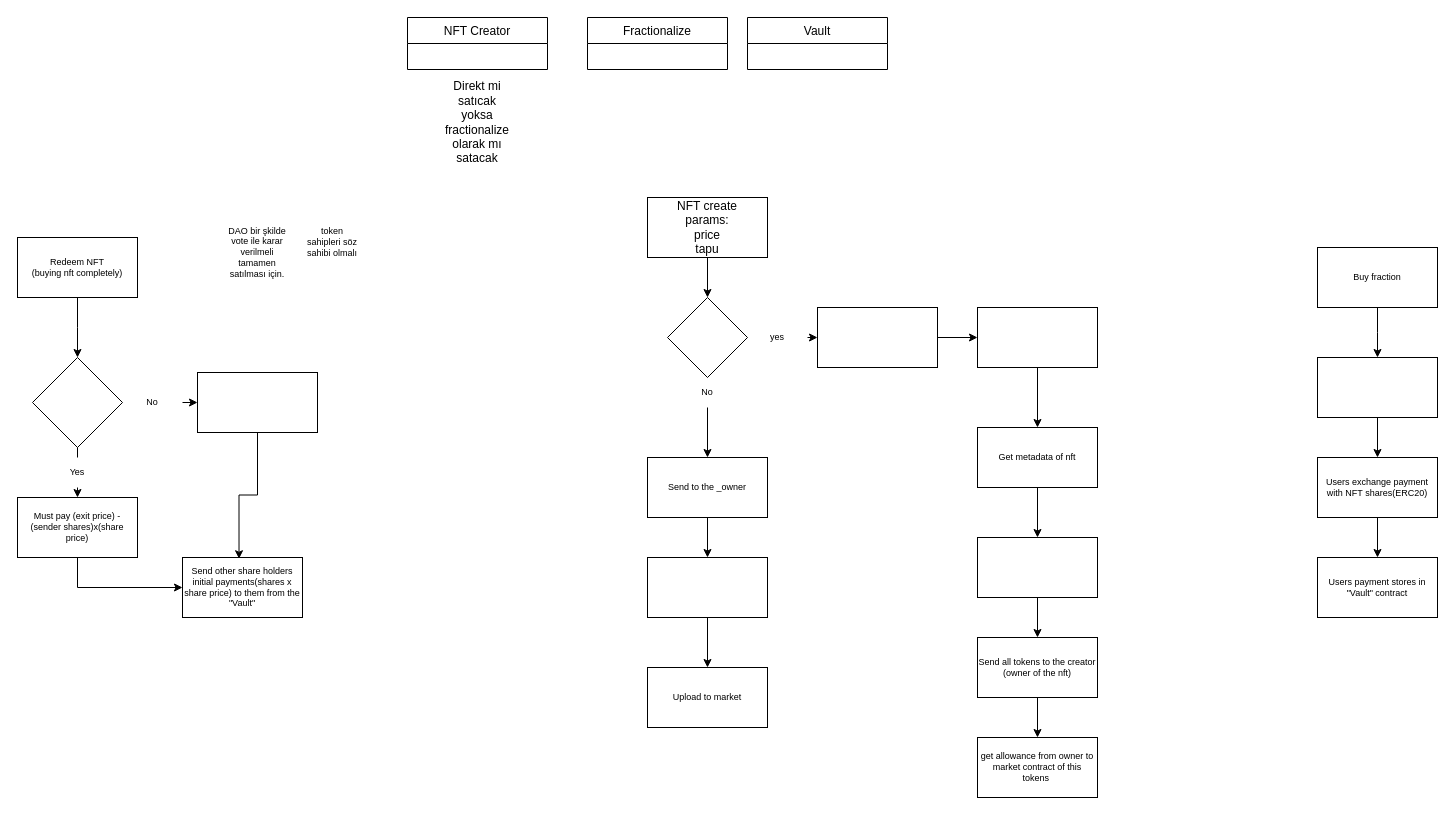
Some shapes in this 1455 by 815 pixel diagram are drawn without their labels. Each missing label, with the box of its shape:
Create 100 ERC20 tokens according NFT metadata: (976, 536, 1098, 598)
Fractionalize ?: (666, 296, 748, 378)
Fractionalize process: (816, 306, 938, 368)
Get approve from owner: (646, 556, 768, 618)
has sender fraction ?: (32, 356, 122, 448)
Must pays exit price: (196, 372, 318, 432)
Stake NFT to the Fractionalize contract: (976, 306, 1098, 368)
user enters shares amount: (1316, 356, 1438, 418)
